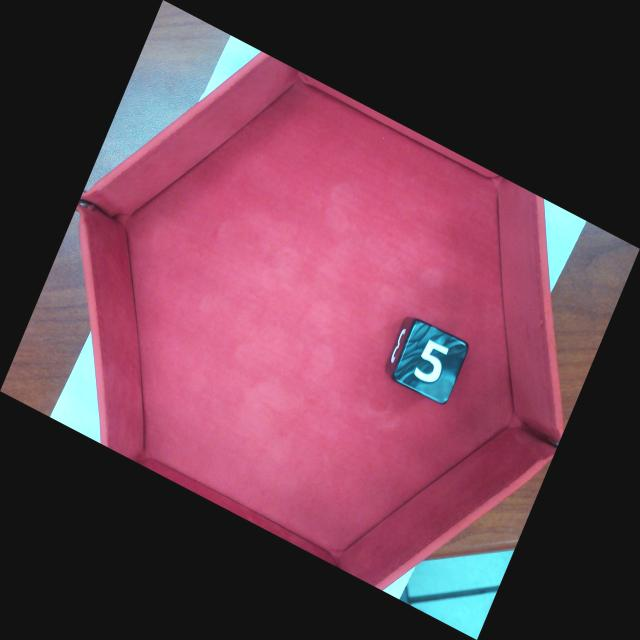dice: (395, 321, 468, 405)
